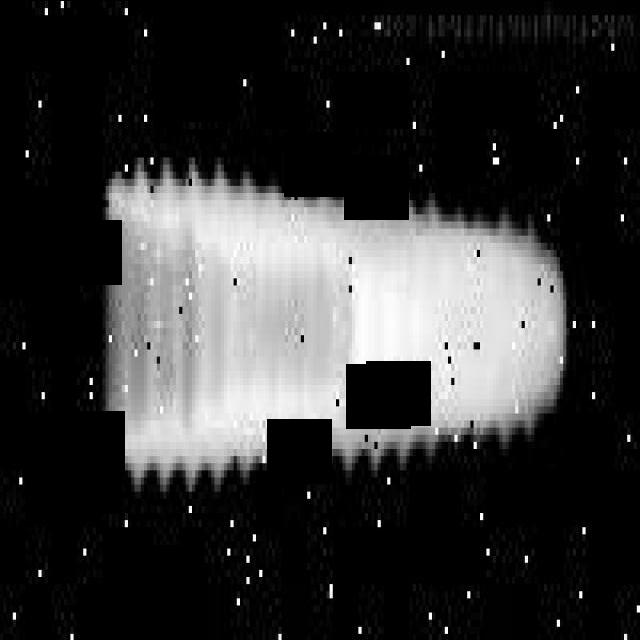Titan Implant Implant: (102, 164, 573, 484)
